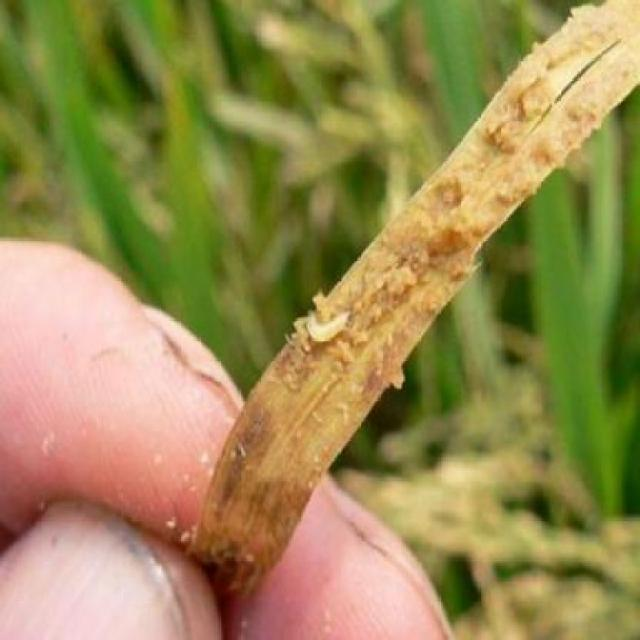whorl-maggot: (297, 308, 361, 346)
